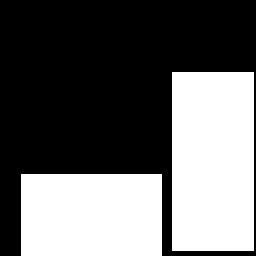rumex: (172, 72, 253, 250), (21, 174, 161, 256)
